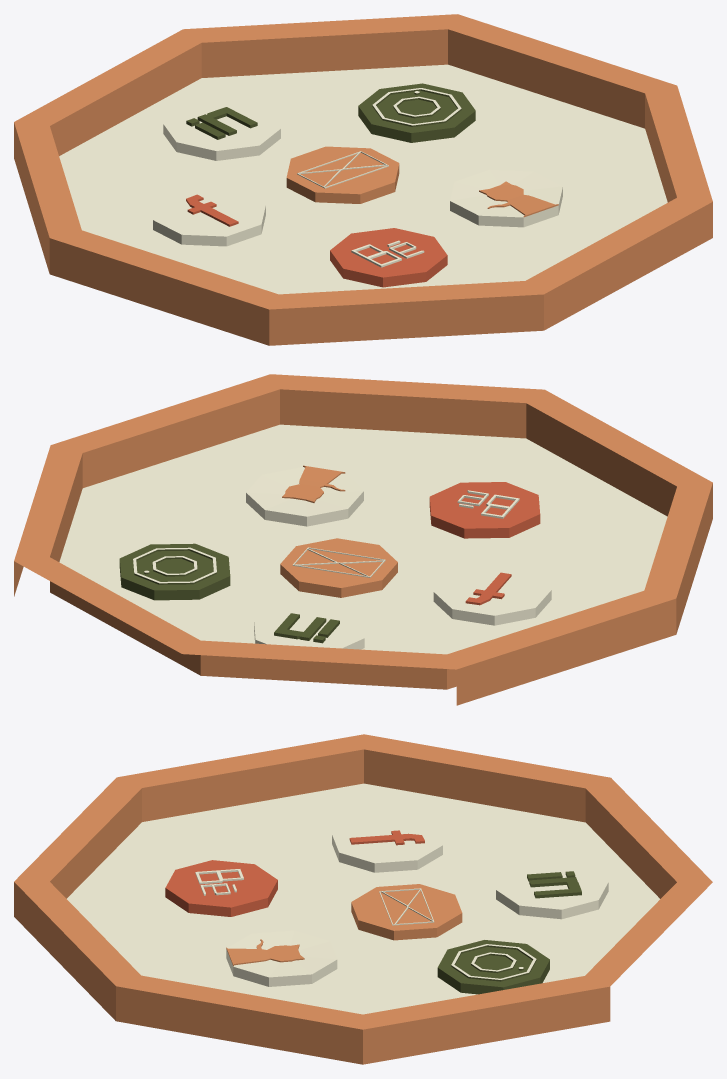
File: socialmedia-optimize.glb
The picture shows the model from 3 angles, top to bottom: view 1: azimuth 30°, elevation 25°; view 2: azimuth 150°, elevation 25°; view 3: azimuth 270°, elevation 25°; orthographic projection. The views are drawn at different scales.
Visible parts, largest first — view 1: scbase, insta, linkdin, be, email, facebook, github; view 2: scbase, github, facebook, email, be, insta, linkdin; view 3: scbase, linkdin, be, github, email, facebook, insta.
Part boxes in pixels (x1,y1,x2,y2): scbase: (14,14,712,345); insta: (358,83,475,142); linkdin: (163,101,280,160); be: (330,228,447,287); email: (286,146,399,203); facebook: (153,189,265,246); github: (450,169,562,227); scbase: (14,374,712,705); github: (246,465,363,526); facebook: (433,566,551,625); email: (280,538,397,597); be: (429,482,540,538); insta: (119,543,230,600); linkdin: (254,606,364,649); scbase: (14,734,712,1064); linkdin: (496,862,608,919); be: (165,860,277,916); github: (226,930,337,986); email: (351,884,462,940); facebook: (332,816,442,872); insta: (437,940,549,994).
Size of the model in its own units: 2 by 0.1106 by 2.
